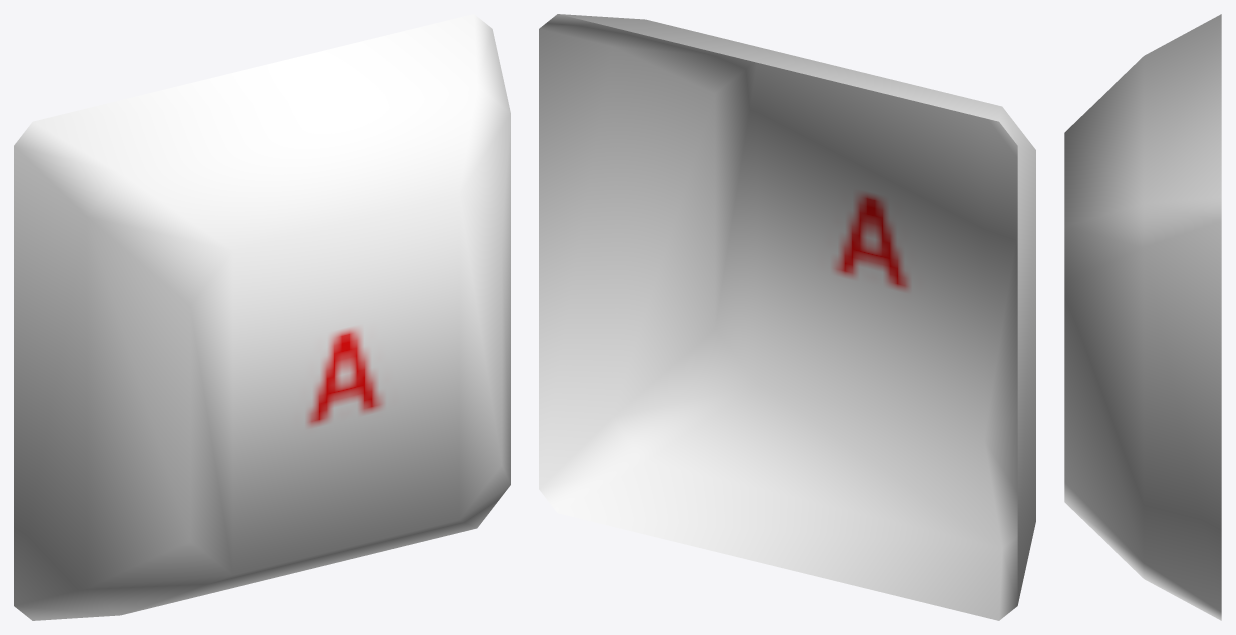
File: aKey.glb
The picture shows the model from 3 angles, left to right: view 1: azimuth 30°, elevation 25°; view 2: azimuth 150°, elevation 25°; view 3: azimuth 270°, elevation 25°; orthographic projection. The views are drawn at different scales.
Visible parts, largest first — view 1: keys_low_LOD0_keys_LOD0_0.001; view 2: keys_low_LOD0_keys_LOD0_0.001; view 3: keys_low_LOD0_keys_LOD0_0.001.
Part boxes in pixels (box(x1,y1,x2,y2)): keys_low_LOD0_keys_LOD0_0.001: box(14, 14, 510, 620); keys_low_LOD0_keys_LOD0_0.001: box(539, 14, 1035, 620); keys_low_LOD0_keys_LOD0_0.001: box(1064, 14, 1221, 620).
Size of the model in its own units: 0.2296 by 0.2289 by 0.077.
1 material, 1 textured.
